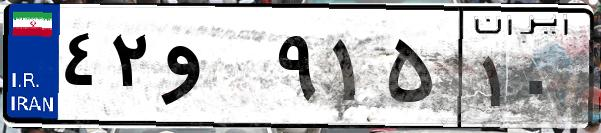0: (525, 38, 570, 115)
1: (330, 28, 385, 110), (475, 38, 525, 113)
2: (110, 28, 158, 98)
4: (57, 26, 110, 100)
5: (385, 28, 445, 110)
9: (270, 28, 330, 110)
و: (158, 20, 270, 120)
